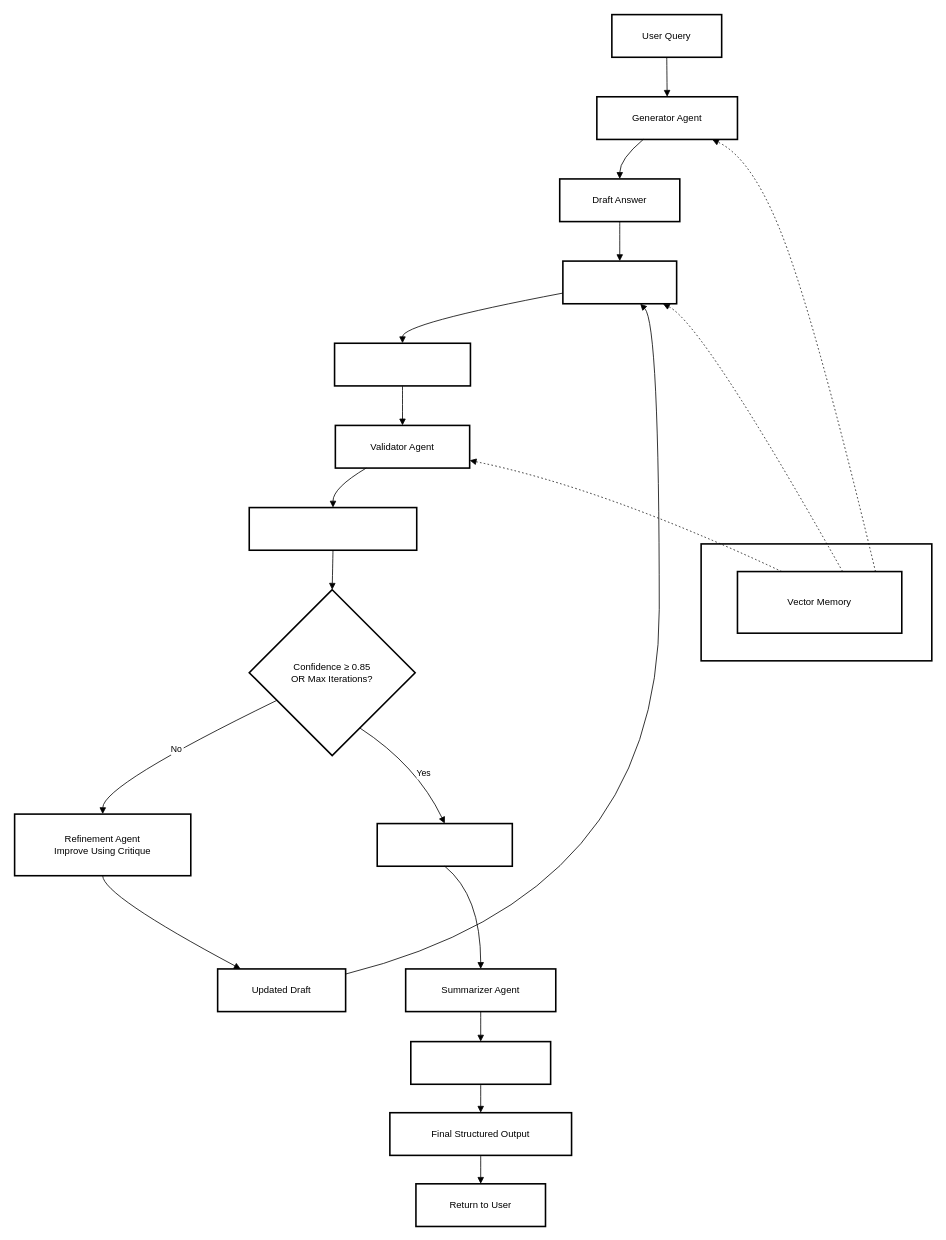
Some shapes in this 946 by 1240 pixel diagram are drawn without their labels. The shapes that lost their labels are listed below. From the top down, each one's box as (x1, y1, x2, y2) in pixels, then its label:
(562, 260, 677, 304): Critic Agent
(333, 342, 471, 386): Critique Output
(248, 506, 417, 551): Confidence Score 0-1
(700, 543, 932, 661): Epistemic Memory
(376, 822, 513, 867): Finalize Answer
(410, 1040, 551, 1085): Translator Agent
